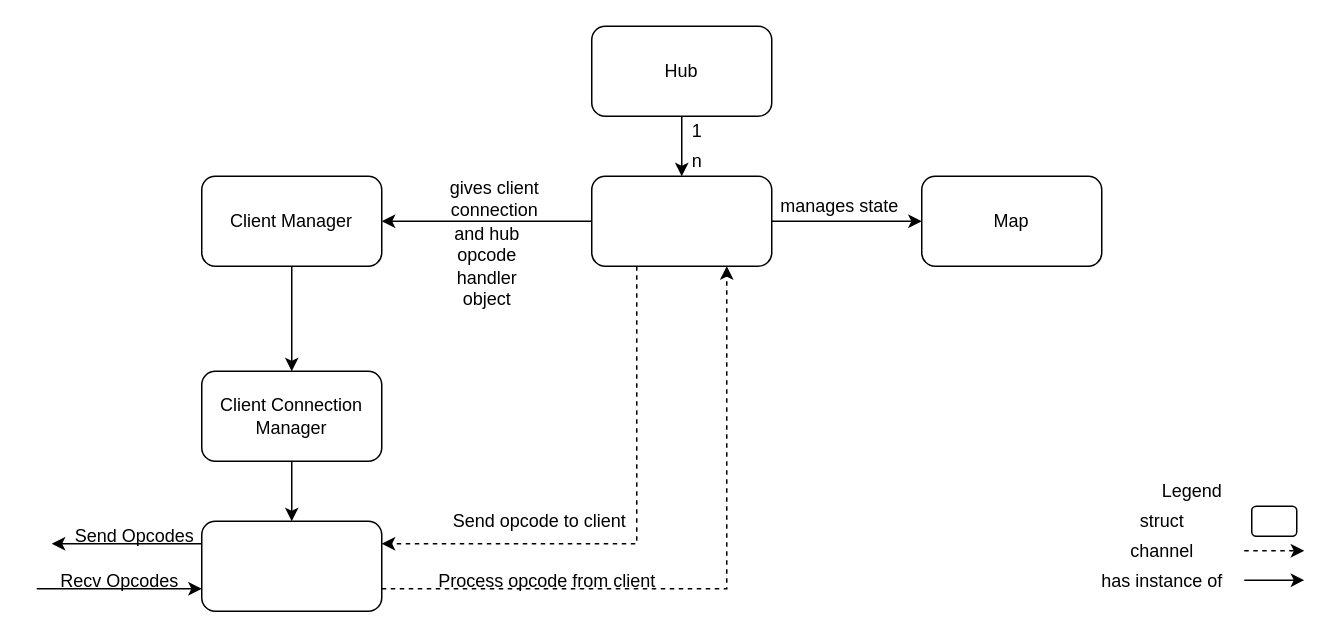
This 1343x638 diagram has some shape labels left out. The centre of each missing label's shape, as x and y in pixels:
Client Connection: (291,565)
Hub Controller: (681,220)
